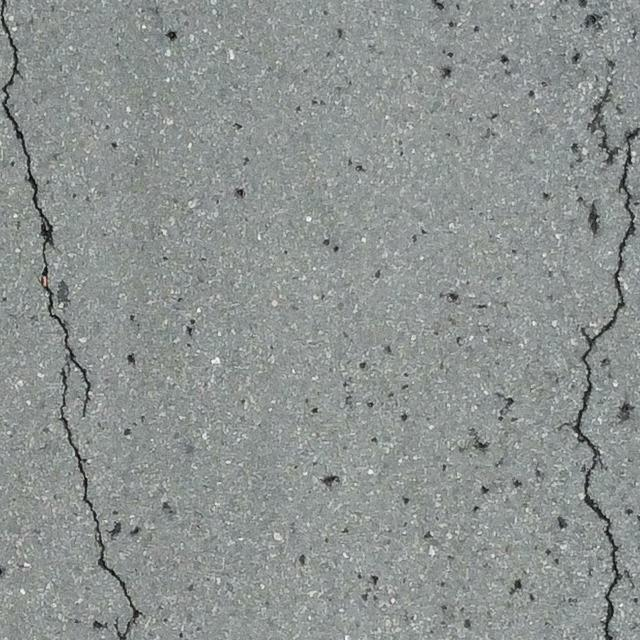LongitudinalCrack: (1, 1, 148, 640), (568, 130, 640, 640)
